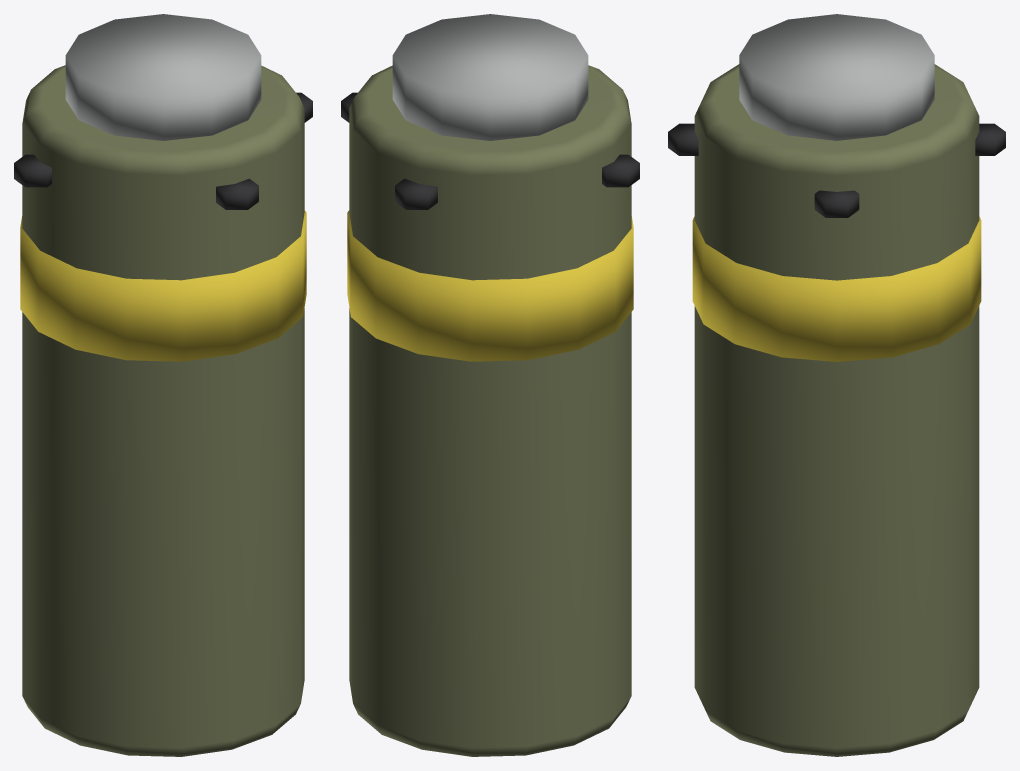
The model's file is canister.glb.
3 renders of one model, left to right at view 1: azimuth 30°, elevation 25°; view 2: azimuth 150°, elevation 25°; view 3: azimuth 270°, elevation 25°, orthographic.
Visible parts, largest first — view 1: Canister / Canister olive, Canister / Canister stripe, Canister / Dull steel, Canister / Chassis black; view 2: Canister / Canister olive, Canister / Canister stripe, Canister / Dull steel, Canister / Chassis black; view 3: Canister / Canister olive, Canister / Canister stripe, Canister / Dull steel, Canister / Chassis black.
Boxes of the visible parts, bbox=[...] form: Canister / Canister olive: bbox=[22, 65, 304, 756]; Canister / Canister stripe: bbox=[20, 210, 306, 361]; Canister / Dull steel: bbox=[65, 14, 261, 140]; Canister / Chassis black: bbox=[14, 92, 312, 209]; Canister / Canister olive: bbox=[349, 65, 631, 756]; Canister / Canister stripe: bbox=[347, 210, 633, 361]; Canister / Dull steel: bbox=[392, 14, 588, 140]; Canister / Chassis black: bbox=[341, 92, 639, 209]; Canister / Canister olive: bbox=[694, 64, 979, 756]; Canister / Canister stripe: bbox=[692, 216, 981, 361]; Canister / Dull steel: bbox=[739, 14, 934, 140]; Canister / Chassis black: bbox=[668, 123, 1005, 217].
Bounding box in the file's own units: 0.0747 × 0.161 × 0.076.
